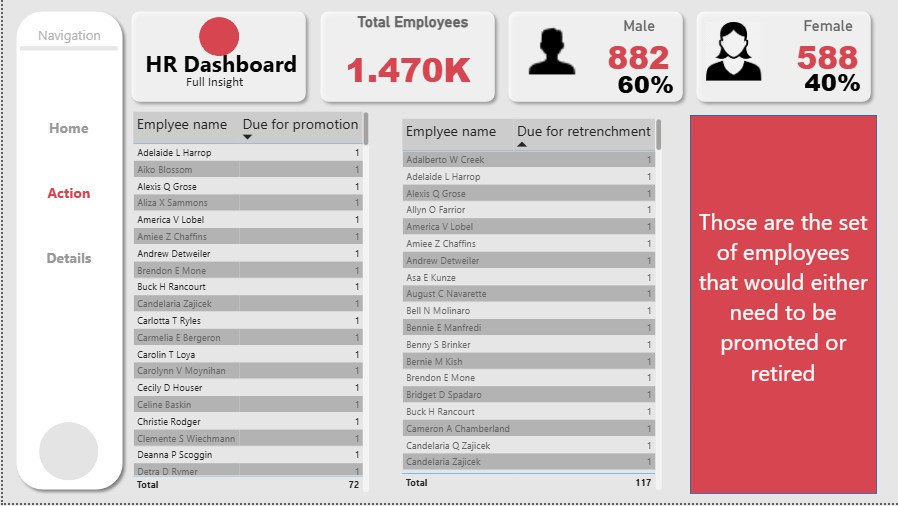

The dashboard page shown, as its layout file describes it:
{"tool":"powerbi","page":{"name":"Action","canvas":[1280,720],"ordinal":1},"visuals":[{"type":"shape","box":[10.1,8.6,169.9,701.3],"z":0},{"type":"shape","box":[174.8,8.6,267.1,147.1],"z":1000},{"type":"shape","box":[443.7,8.6,267.1,147.1],"z":2000},{"type":"shape","box":[712.5,8.6,267.1,147.1],"z":3000},{"type":"shape","box":[981.4,8.6,267.1,147.1],"z":4000},{"type":"textbox","box":[180.7,64.3,264.3,54.3],"z":5000},{"type":"textbox","box":[193.2,101.4,219.1,54.3],"z":6000},{"type":"shape","box":[279.5,25,57.6,55.9],"z":7000},{"type":"cardVisual","title":"Total Employees","fields":{"Data":["All Measures.Total Empp"]},"box":[460,20,251.4,121.4],"z":8000},{"type":"cardVisual","title":"Male","fields":{"Data":["All Measures.Male"]},"box":[845.7,25.7,121.4,92.9],"z":9000},{"type":"cardVisual","title":"Female","fields":{"Data":["All Measures.Female"]},"box":[1115.7,25.7,121.4,92.9],"z":10000},{"type":"cardVisual","title":"Male","fields":{"Data":["All Measures.% Female"]},"box":[1127.1,72.9,121.4,92.9],"z":11000},{"type":"image","box":[736.3,26.2,95,90.8],"z":12000},{"type":"image","box":[1004.7,33,79.8,84],"z":13000},{"type":"shape","box":[228.6,388.6,300,80],"z":14000},{"type":"cardVisual","title":"Male","fields":{"Data":["All Measures.% Male"]},"box":[860,75.7,121.4,92.9],"z":15000},{"type":"tableEx","fields":{"Values":["HR employee data.Emplyee name","All Measures.Due for promotion"]},"box":[180,155.5,348.5,554.4],"z":16000},{"type":"tableEx","fields":{"Values":["HR employee data.Emplyee name","All Measures.will be retrenched"]},"box":[564.5,165.6,381.6,541.4],"z":17000},{"type":"shape","box":[981,166,267,541],"z":18000},{"type":"textbox","box":[987.8,289.4,254.9,324],"z":19000},{"type":"textbox","box":[9.5,33.1,169.5,35.5],"z":20000},{"type":"shape","box":[51.8,604.8,85,83.5],"z":21000},{"type":"shape","box":[24.6,64.2,139.6,12.7],"z":22000},{"type":"pageNavigator","box":[24.5,141.1,139.7,269.3],"z":23000}]}

Visuals, with their boxes in screenshot pixels (x1, y1, x2, y2), scaled from the page's 1280x720 canvas onto the 898x506 screenshot:
shape: 7, 6, 126, 499
shape: 123, 6, 310, 109
shape: 311, 6, 499, 109
shape: 500, 6, 687, 109
shape: 689, 6, 876, 109
textbox: 127, 45, 312, 83
textbox: 136, 71, 289, 109
shape: 196, 18, 236, 57
"Total Employees" cardVisual: 323, 14, 499, 99
"Male" cardVisual: 593, 18, 678, 83
"Female" cardVisual: 783, 18, 868, 83
"Male" cardVisual: 791, 51, 876, 117
image: 517, 18, 583, 82
image: 705, 23, 761, 82
shape: 160, 273, 371, 329
"Male" cardVisual: 603, 53, 689, 118
tableEx - HR employee data.Emplyee name x All Measures.Due for promotion: 126, 109, 371, 499
tableEx - HR employee data.Emplyee name x All Measures.will be retrenched: 396, 116, 664, 497
shape: 688, 117, 876, 497
textbox: 693, 203, 872, 431
textbox: 7, 23, 126, 48
shape: 36, 425, 96, 484
shape: 17, 45, 115, 54
pageNavigator: 17, 99, 115, 288
